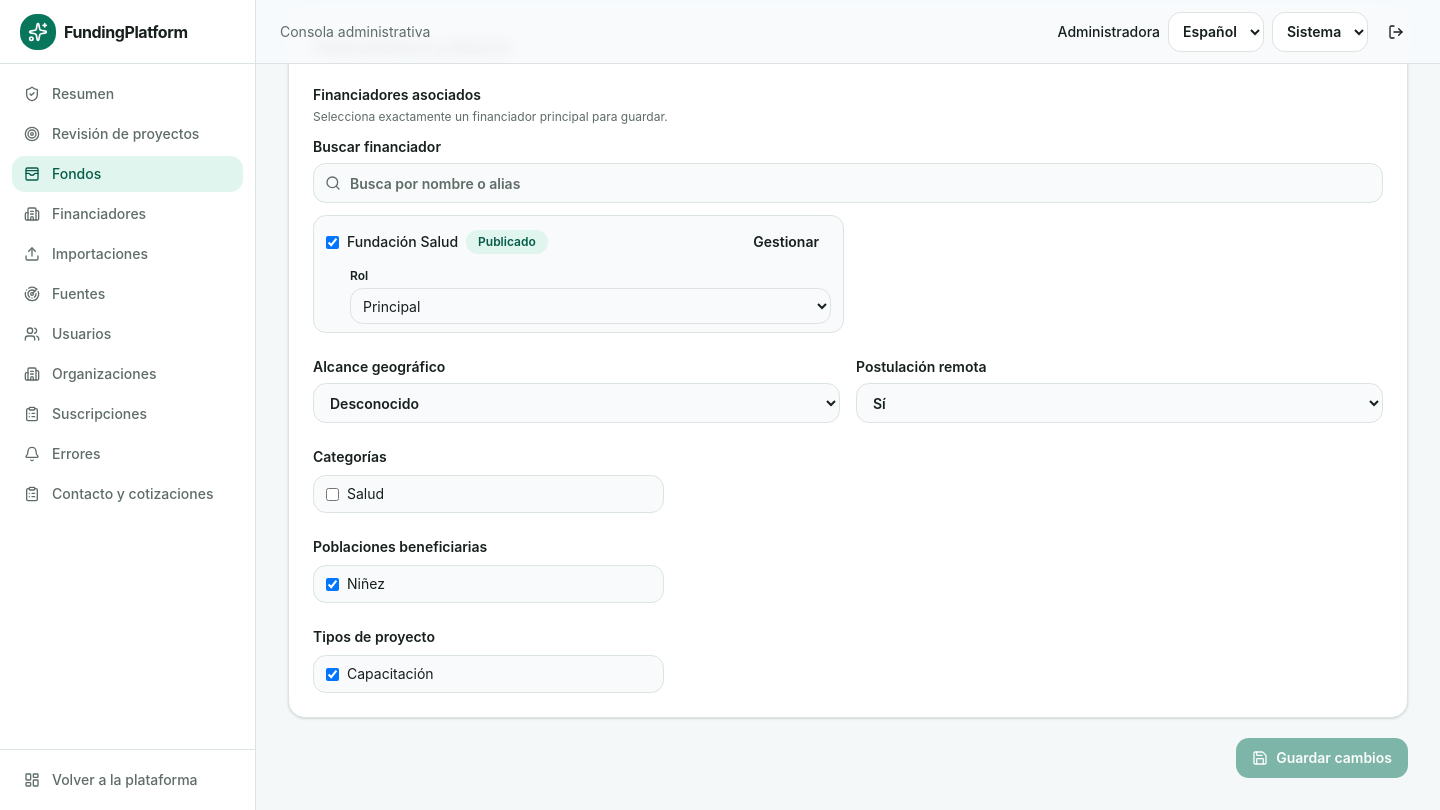
Test: administración editorial de fondos › guarda categorías de un borrador importado sin exigir publicación ni inventar alcance
(page scrolled)
Click the checkbox labelled "Salud". click: [332, 494]
box: [326, 488, 339, 500]
(page scrolled)
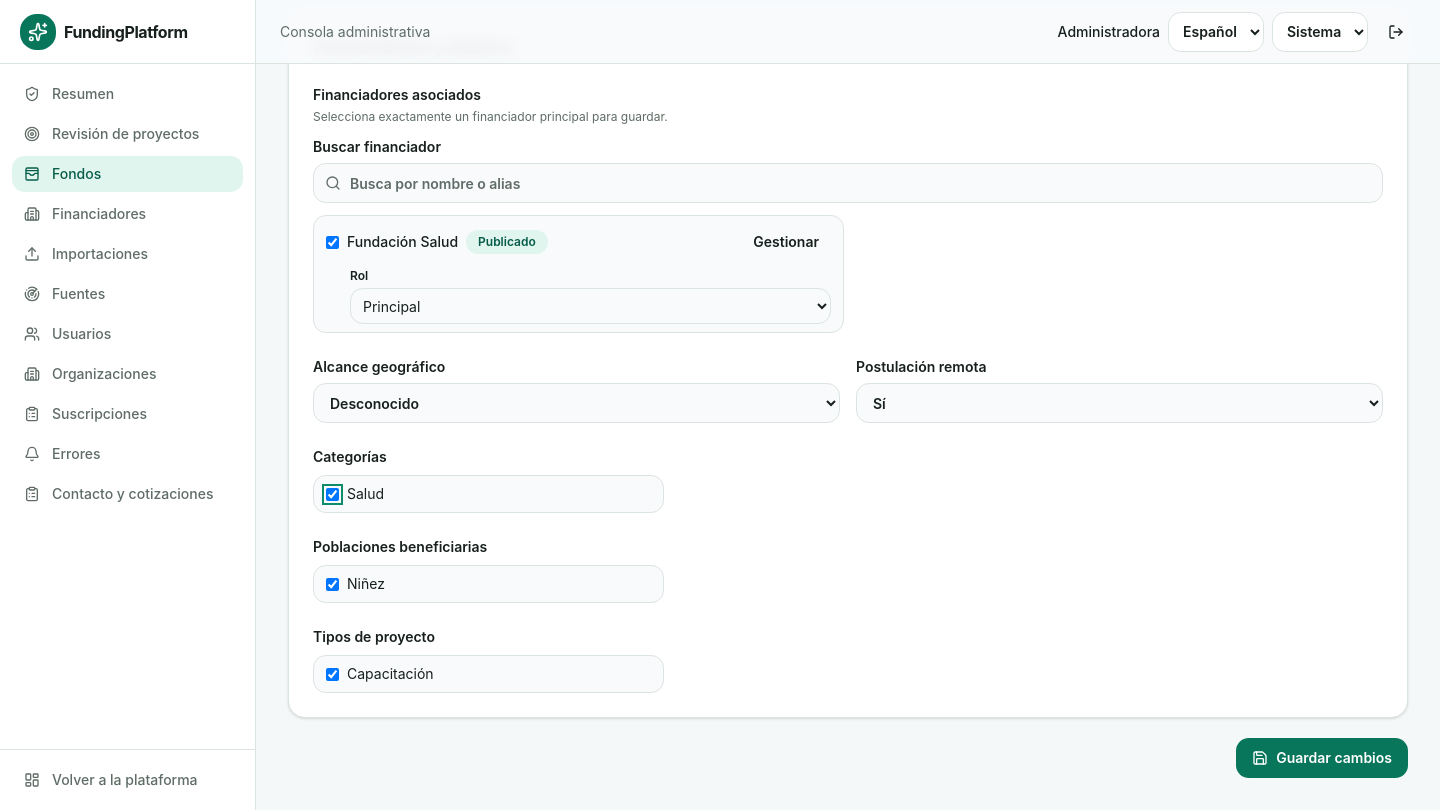
Click the button "Guardar cambios". click: [1322, 758]
box: [1236, 738, 1408, 778]
(page scrolled)
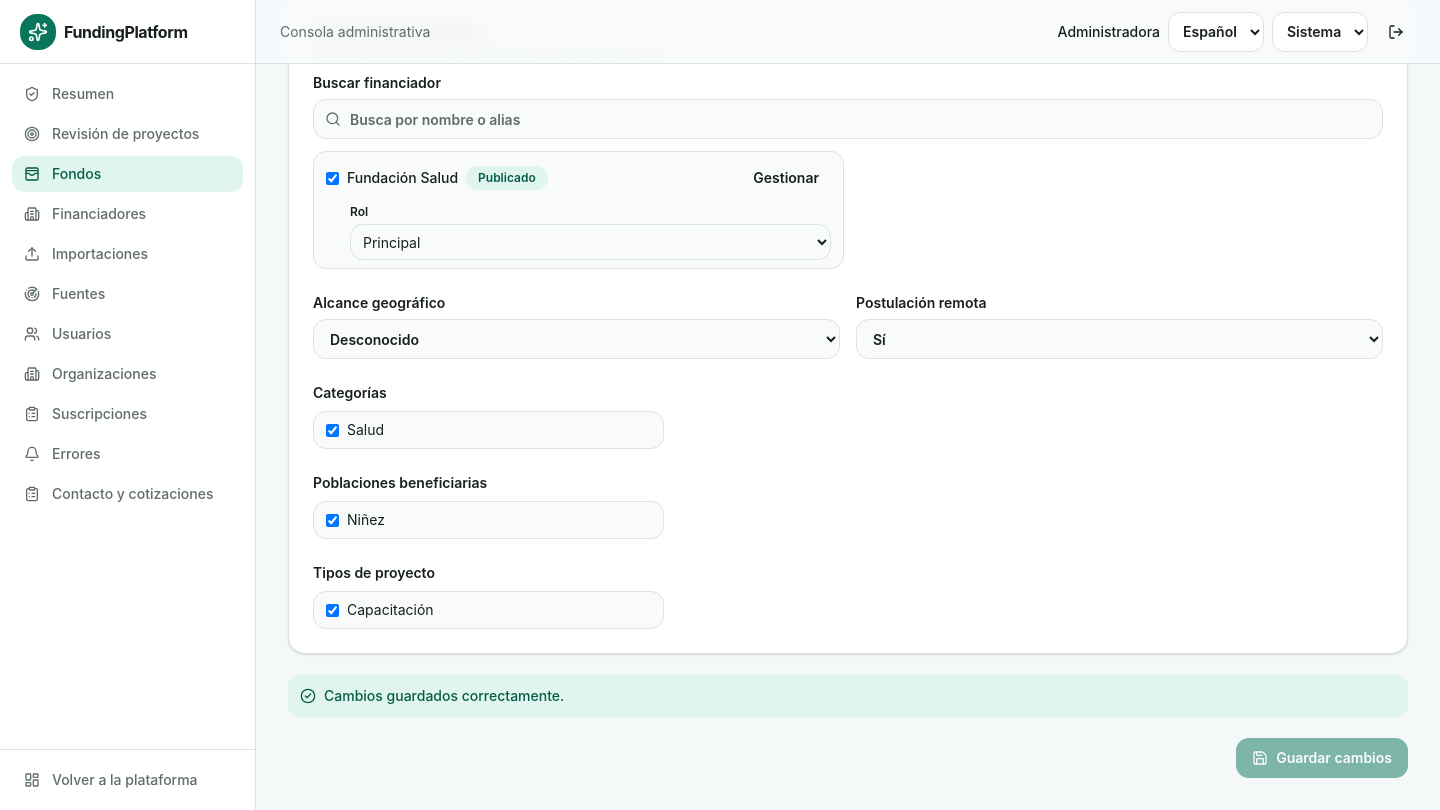
Expected: the checkbox labelled "Salud" is checked, [326, 424, 339, 436]
Expected: the text "Cambios guardados correctamente." is shown, [288, 674, 1408, 718]
Expected: the button "Guardar cambios" is disabled, [1236, 738, 1408, 778]
